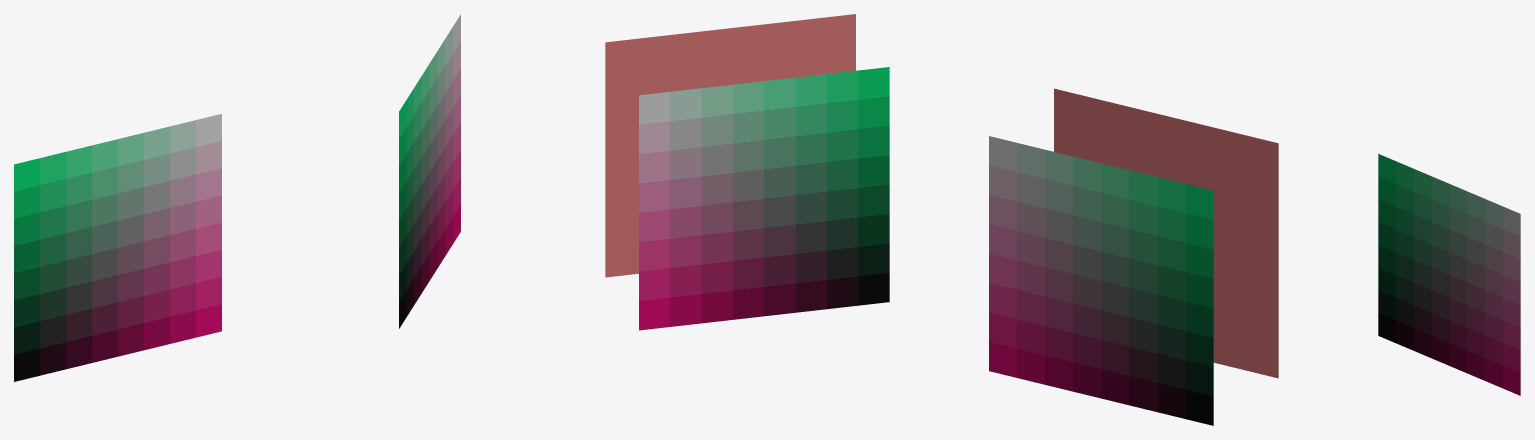
File: two_quads.gltf
The picture shows the model from 3 angles, left to right: view 1: azimuth 30°, elevation 25°; view 2: azimuth 150°, elevation 25°; view 3: azimuth 270°, elevation 25°; orthographic projection. The views are drawn at different scales.
Parts seen in each view (by area): view 1: left, right; view 2: right, left; view 3: right.
Boxes of the visible parts, x1,y1,x2,y2 form: left: [14, 114, 221, 381]; right: [399, 14, 460, 328]; right: [605, 14, 889, 330]; left: [989, 88, 1278, 425]; right: [1378, 154, 1520, 395].
Bounding box in the file's own units: 5.41 × 2 × 2.12.
2 materials, 1 textured.
